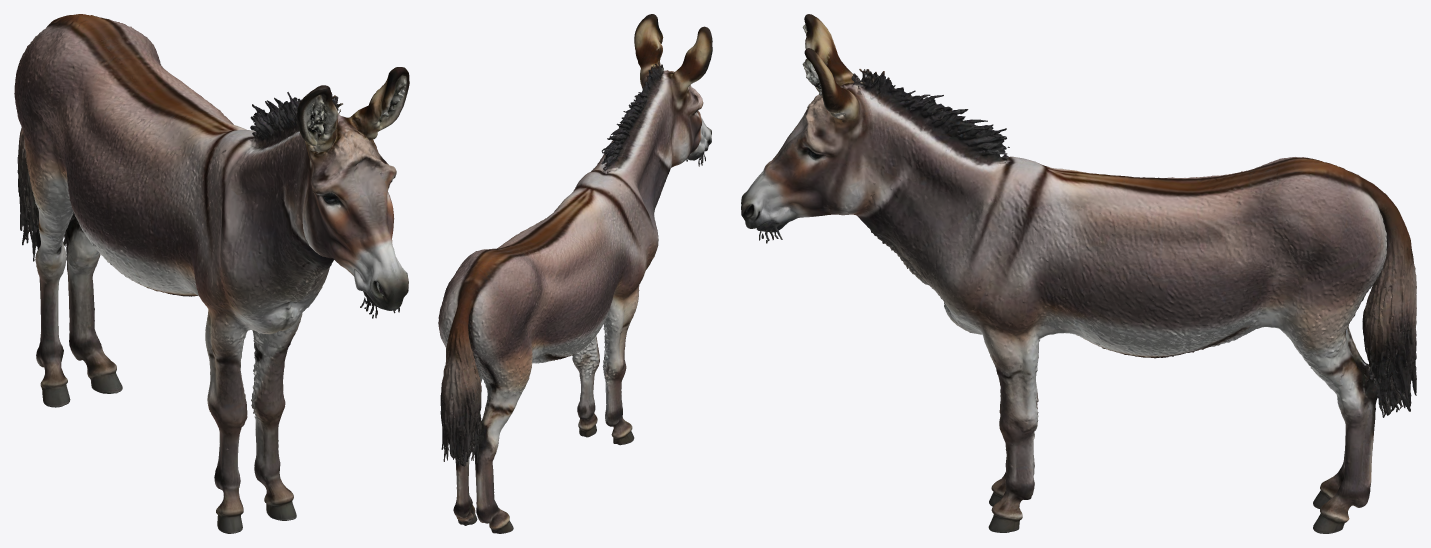
File: Meshy_AI_Donkey_0318050248_texture.glb
The picture shows the model from 3 angles, left to right: view 1: azimuth 30°, elevation 25°; view 2: azimuth 150°, elevation 25°; view 3: azimuth 270°, elevation 25°; orthographic projection. The views are drawn at different scales.
Size of the model in its own units: 0.4559 by 1.51 by 1.9.
Materials: 1 (1 with a texture image).
